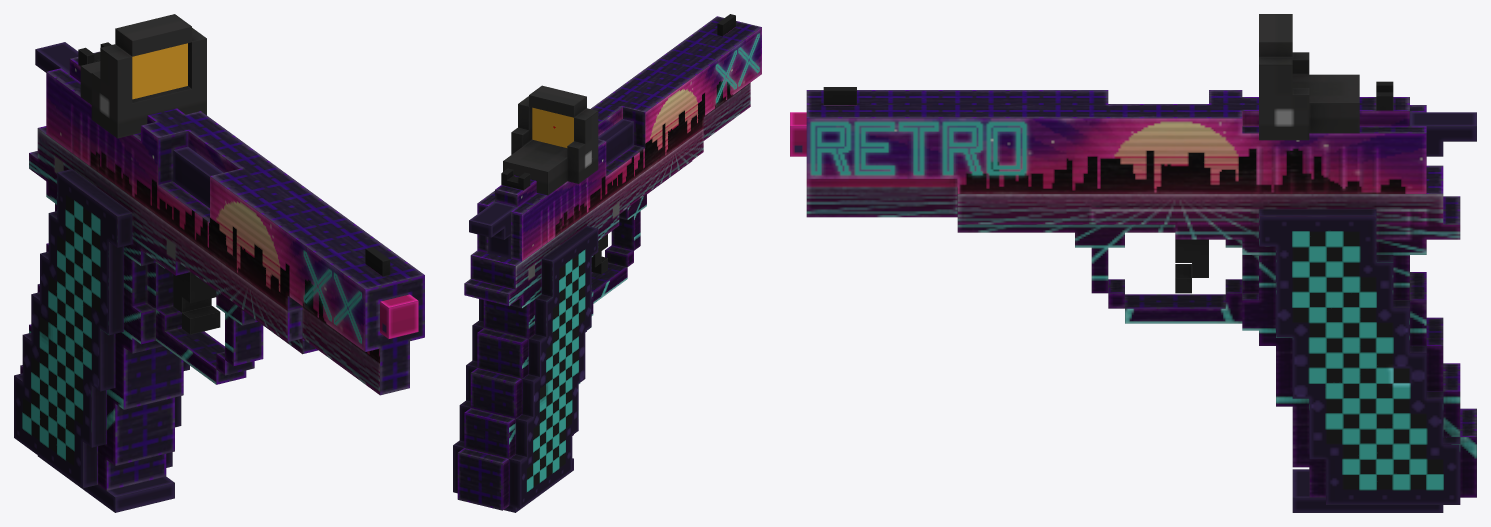
Rendered from RD_BROWNING_RETRO.glb.
The picture shows the model from 3 angles, left to right: view 1: azimuth 30°, elevation 25°; view 2: azimuth 150°, elevation 25°; view 3: azimuth 270°, elevation 25°; orthographic projection. The views are drawn at different scales.
Visible parts, largest first — view 1: BROWNING_HI_POWER, BROWNING_HI_POWER_FRAME, SCOPE_TRIJICON, BROWNING_HI_POWER_CLIP, BROWNING_HI_POWER_TRIGGER; view 2: BROWNING_HI_POWER, BROWNING_HI_POWER_FRAME, SCOPE_TRIJICON, BROWNING_HI_POWER_TRIGGER; view 3: BROWNING_HI_POWER, BROWNING_HI_POWER_FRAME, SCOPE_TRIJICON, BROWNING_HI_POWER_TRIGGER, BROWNING_HI_POWER_CLIP.
Part boxes in pixels (left/top/right/bottom): BROWNING_HI_POWER: left=14, top=126, right=418, bottom=490; BROWNING_HI_POWER_FRAME: left=46, top=42, right=424, bottom=395; SCOPE_TRIJICON: left=80, top=14, right=206, bottom=138; BROWNING_HI_POWER_CLIP: left=37, top=455, right=174, bottom=512; BROWNING_HI_POWER_TRIGGER: left=35, top=42, right=78, bottom=73; BROWNING_HI_POWER: left=453, top=119, right=703, bottom=510; BROWNING_HI_POWER_FRAME: left=477, top=14, right=761, bottom=261; SCOPE_TRIJICON: left=503, top=85, right=598, bottom=195; BROWNING_HI_POWER_TRIGGER: left=469, top=201, right=516, bottom=258; BROWNING_HI_POWER: left=790, top=112, right=1476, bottom=504; BROWNING_HI_POWER_FRAME: left=806, top=81, right=1426, bottom=217; SCOPE_TRIJICON: left=1259, top=14, right=1359, bottom=140; BROWNING_HI_POWER_TRIGGER: left=1410, top=112, right=1476, bottom=156; BROWNING_HI_POWER_CLIP: left=1292, top=469, right=1443, bottom=512.
Size of the model in its own units: 0.0591 by 0.3051 by 0.4035.
3 materials, 3 textured.
